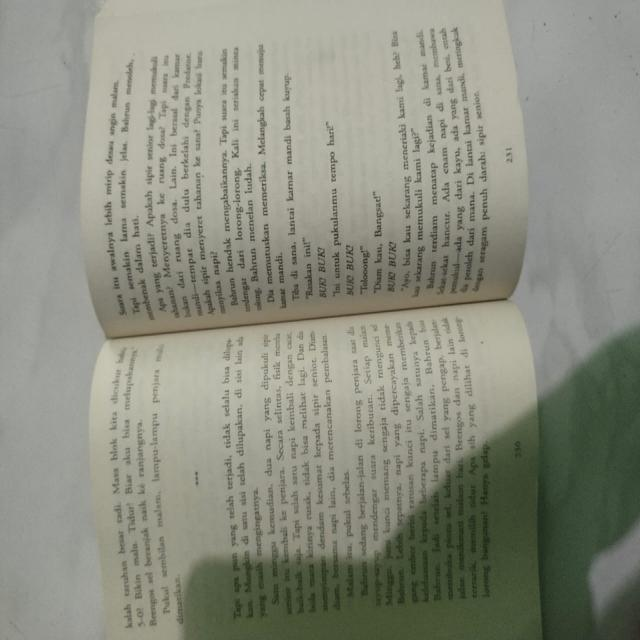buku: (71, 10, 577, 640)
